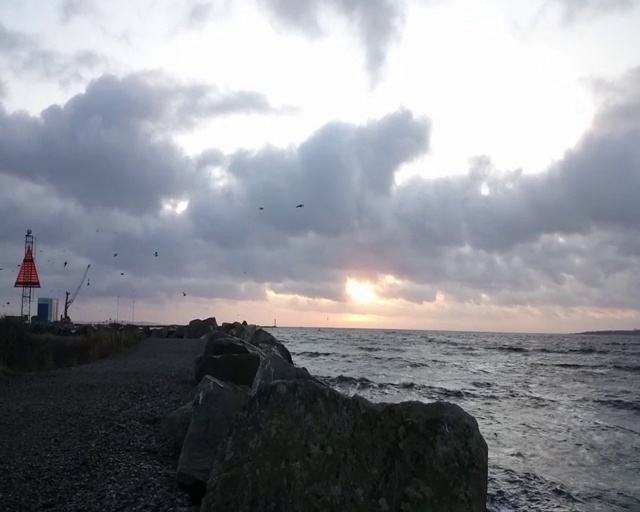BIRD: (58, 262, 91, 322)
